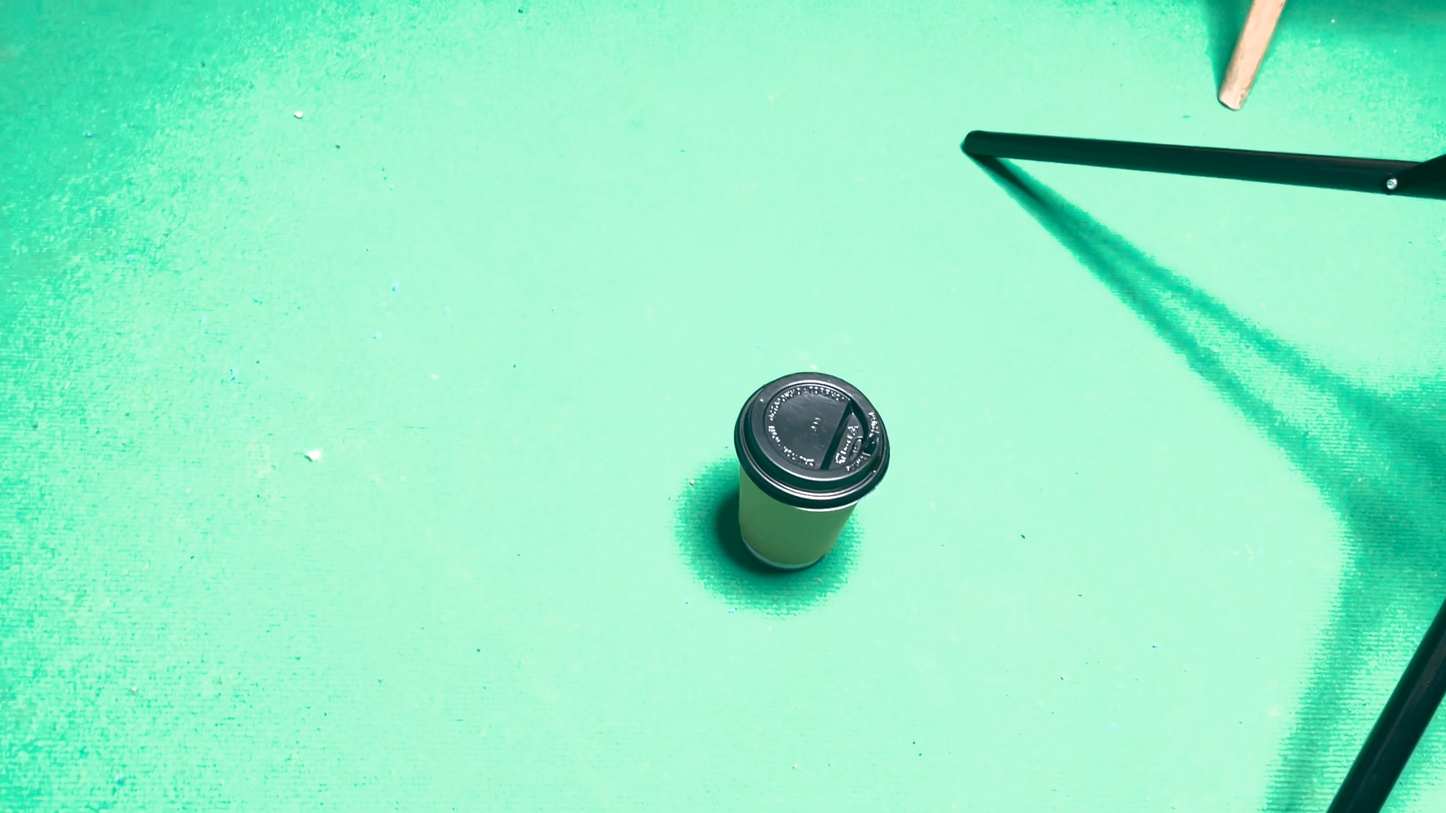cup: (737, 467, 832, 594)
